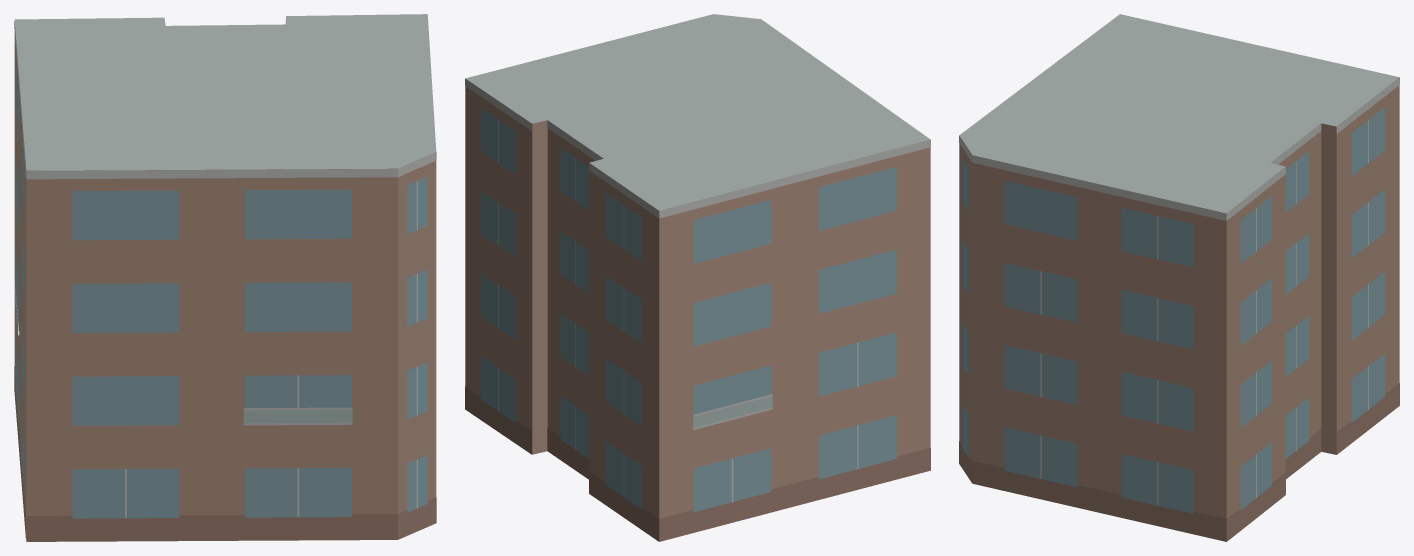
File: survey-upis-32873652.glb
The picture shows the model from 3 angles, left to right: view 1: azimuth 30°, elevation 25°; view 2: azimuth 150°, elevation 25°; view 3: azimuth 270°, elevation 25°; orthographic projection. The views are drawn at different scales.
Visible parts, largest first — view 1: survey-upis-32873652.tmp; view 2: survey-upis-32873652.tmp; view 3: survey-upis-32873652.tmp.
Part boxes in pixels (x1,y1,x2,y2): survey-upis-32873652.tmp: (14, 14, 436, 541); survey-upis-32873652.tmp: (465, 14, 930, 541); survey-upis-32873652.tmp: (959, 14, 1399, 541).
Bounding box in the file's own units: 13.81 × 10.6 × 12.89.
